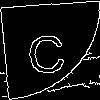C: (25, 25, 67, 75)
